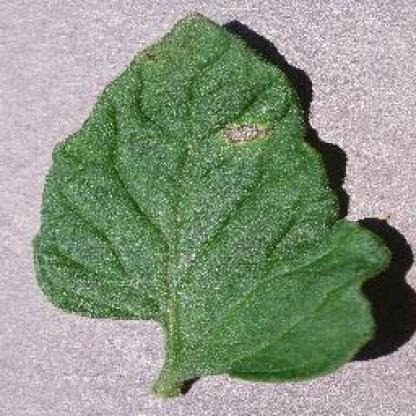bad leaf: (28, 17, 384, 387)
